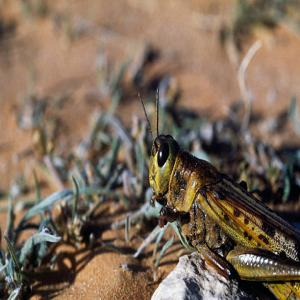locust: (145, 107, 300, 300)
